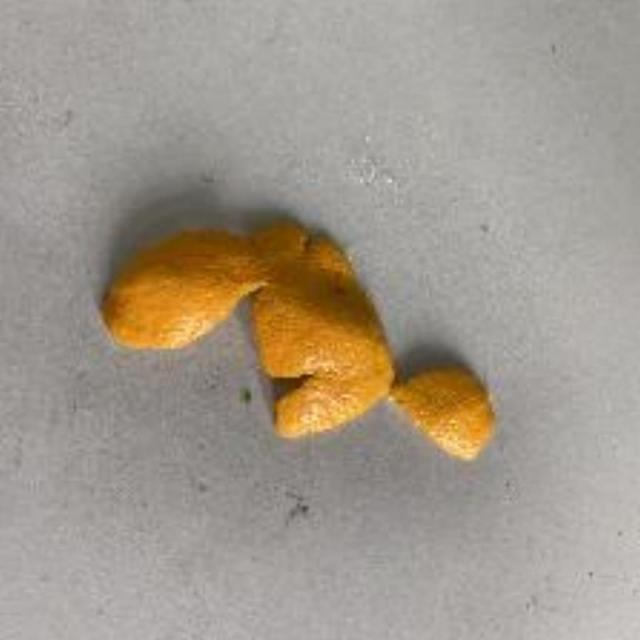orange-peel: (99, 218, 496, 462)
